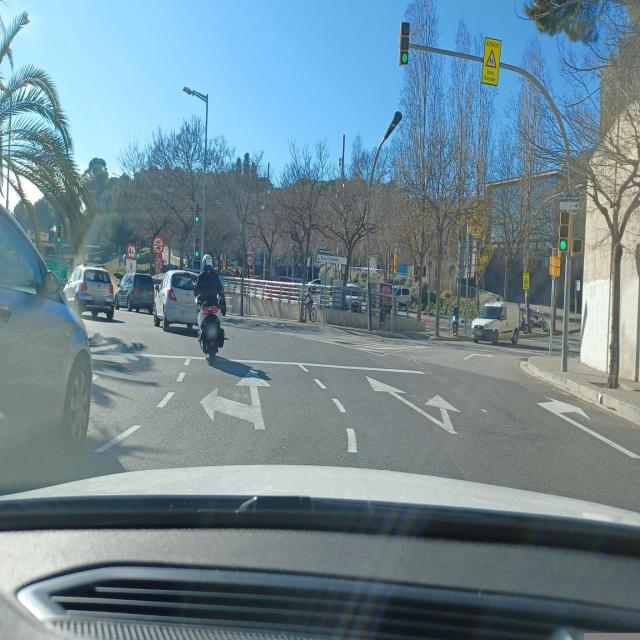bike: (195, 279, 225, 366), (300, 300, 318, 324), (530, 312, 549, 332), (450, 313, 460, 337)
car: (0, 178, 93, 495), (64, 264, 115, 320), (154, 267, 198, 331), (472, 302, 520, 346), (115, 270, 155, 312), (391, 283, 413, 312), (346, 281, 364, 314), (306, 278, 326, 295), (227, 257, 239, 267)
